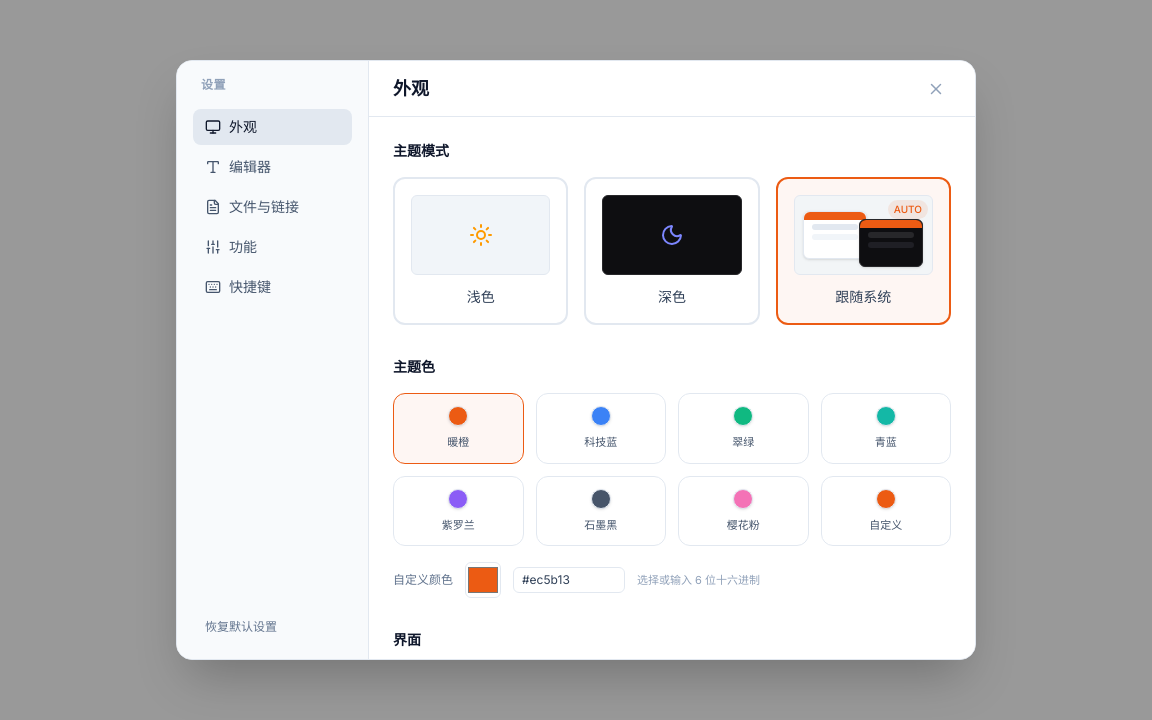
Scenario: SettingsModal editor presentation options › does not expose the removed line-number toggle in editor settings
The image size is (1152, 720).
Click the button "编辑器".
click(272, 167)  # box [193,149,352,185]
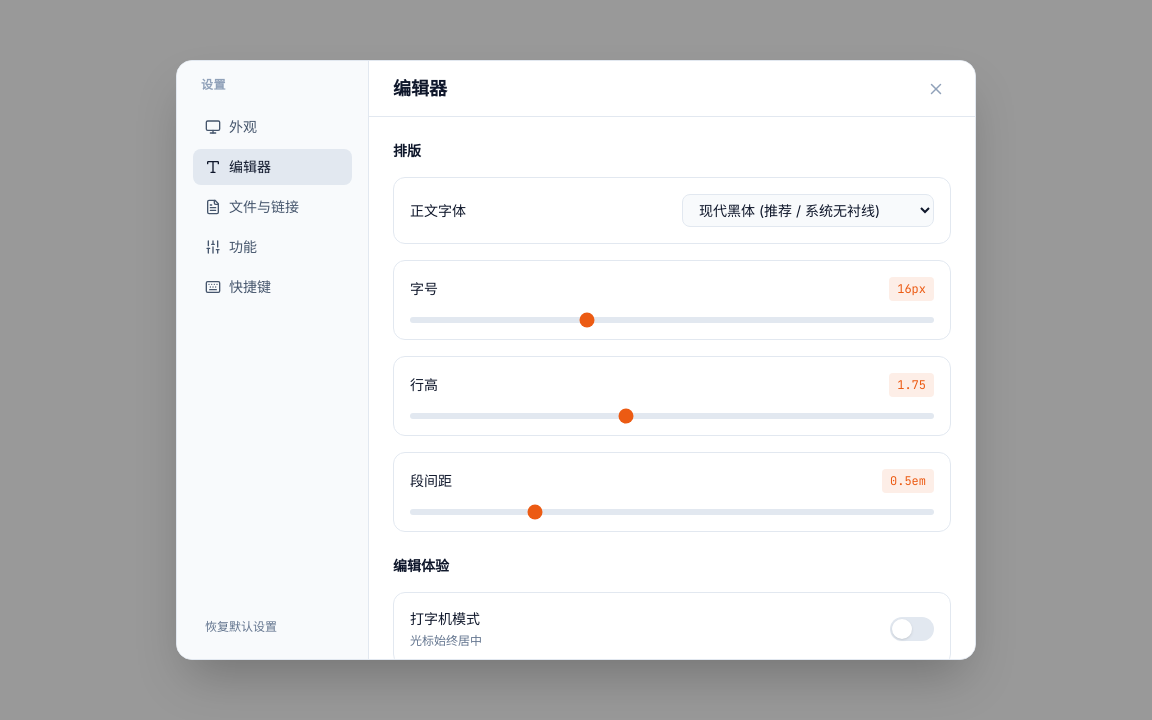
Expected: the text "打字机模式" is shown, [410,609,482,629]
